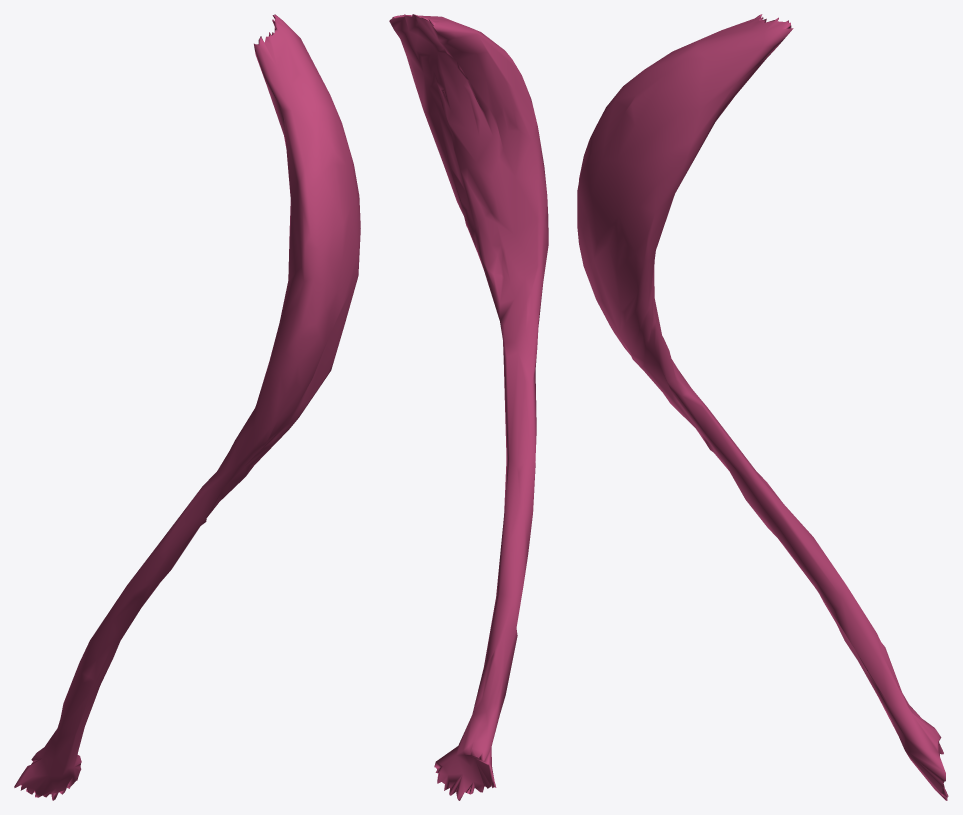
3 renders of one model, left to right at view 1: azimuth 30°, elevation 25°; view 2: azimuth 150°, elevation 25°; view 3: azimuth 270°, elevation 25°, orthographic. The views are drawn at different scales.
Visible parts, largest first — view 1: 左侧踇短伸肌; view 2: 左侧踇短伸肌; view 3: 左侧踇短伸肌.
Boxes of the visible parts, left/top/right/bottom form: 左侧踇短伸肌: left=14, top=14, right=360, bottom=800; 左侧踇短伸肌: left=389, top=14, right=548, bottom=800; 左侧踇短伸肌: left=577, top=14, right=948, bottom=800.
Size of the model in its own units: 0.0499 by 0.1795 by 0.0706.
